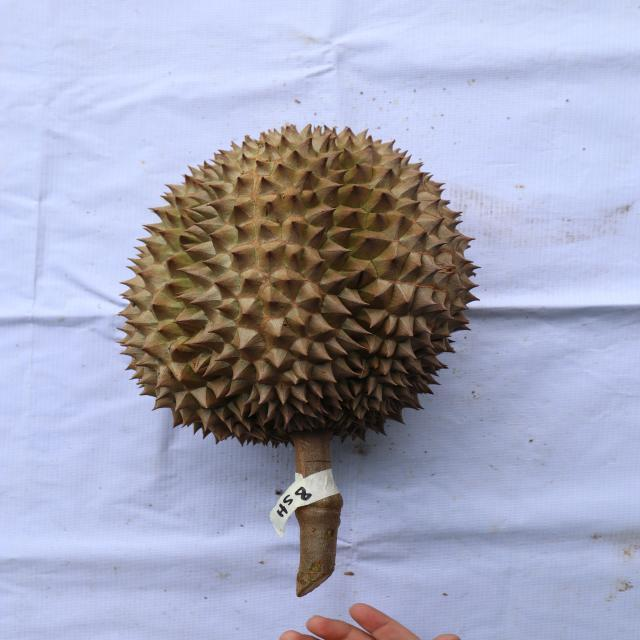mature: (120, 123, 486, 446)
